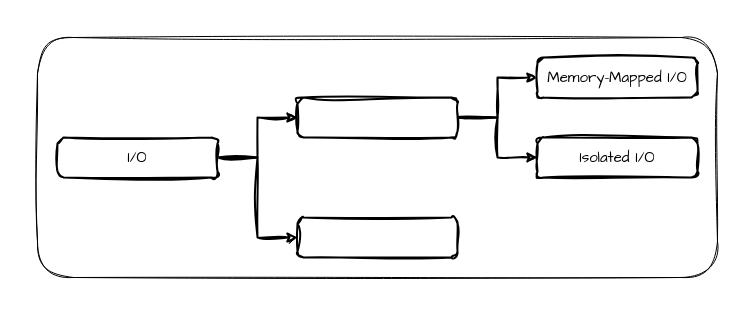
This 754x314 diagram has some shape labels left out. Here are the shapes that lost their labels. From the top down, the centre of each, then its label:
At pixel 377 117: "Program I./O".
At pixel 377 237: "Interrupt-Driven I/O".
